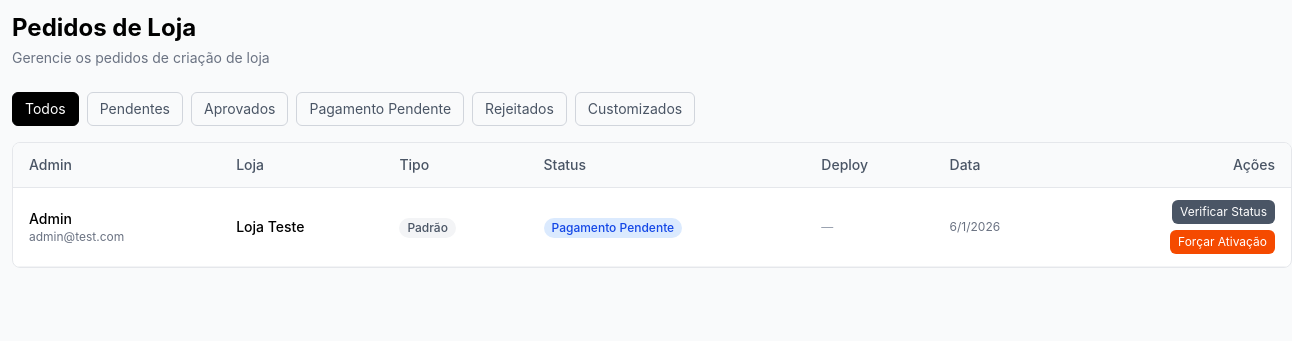
Test: Store Requests Page › APPROVED_PENDING_PAYMENT › shows setup fee pending indicator
The image size is (1292, 341).
What coordinates should you click on to do the following:
click the button "Verificar Status"
I would click on:
 (1224, 212)
Its box is [1172, 200, 1275, 224].
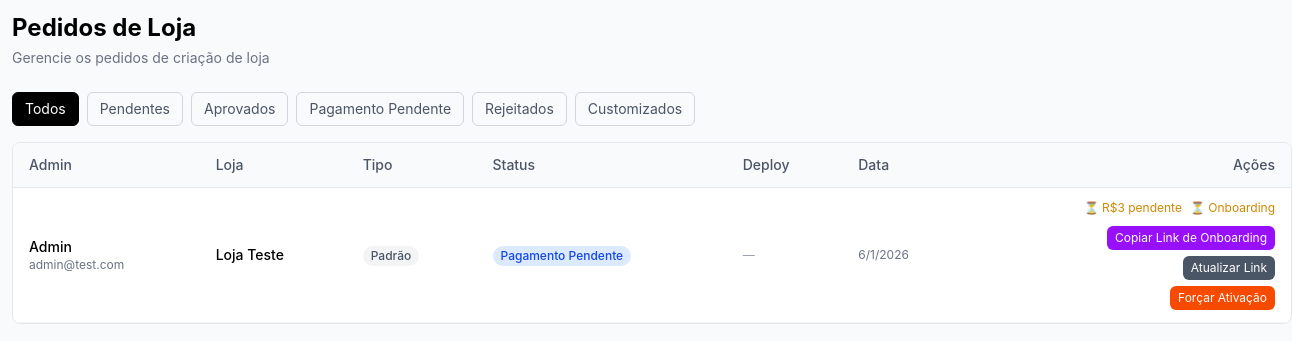
Result: the text "⏳ R$3 pendente" is shown at [1084, 200, 1182, 216]
